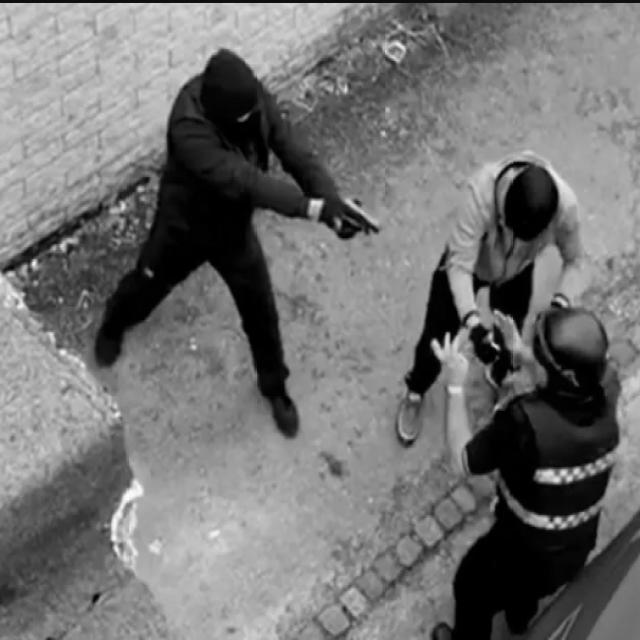gun: (336, 199, 380, 233)
